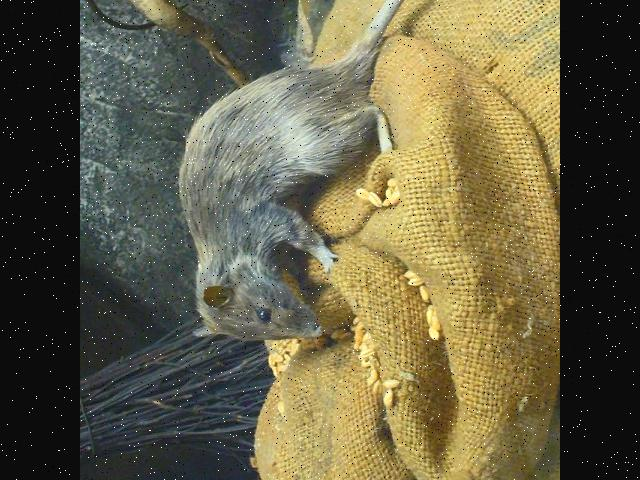Tikus: (178, 38, 400, 342)
